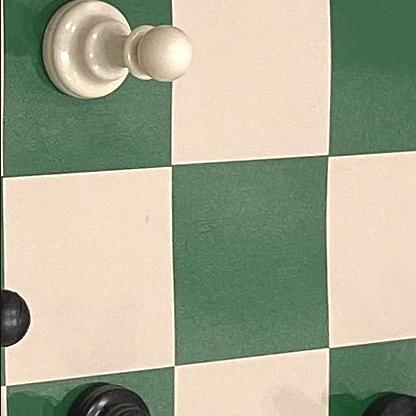black-pawn: (50, 364, 226, 416), (0, 250, 43, 364)
white-pawn: (33, 0, 204, 106)
